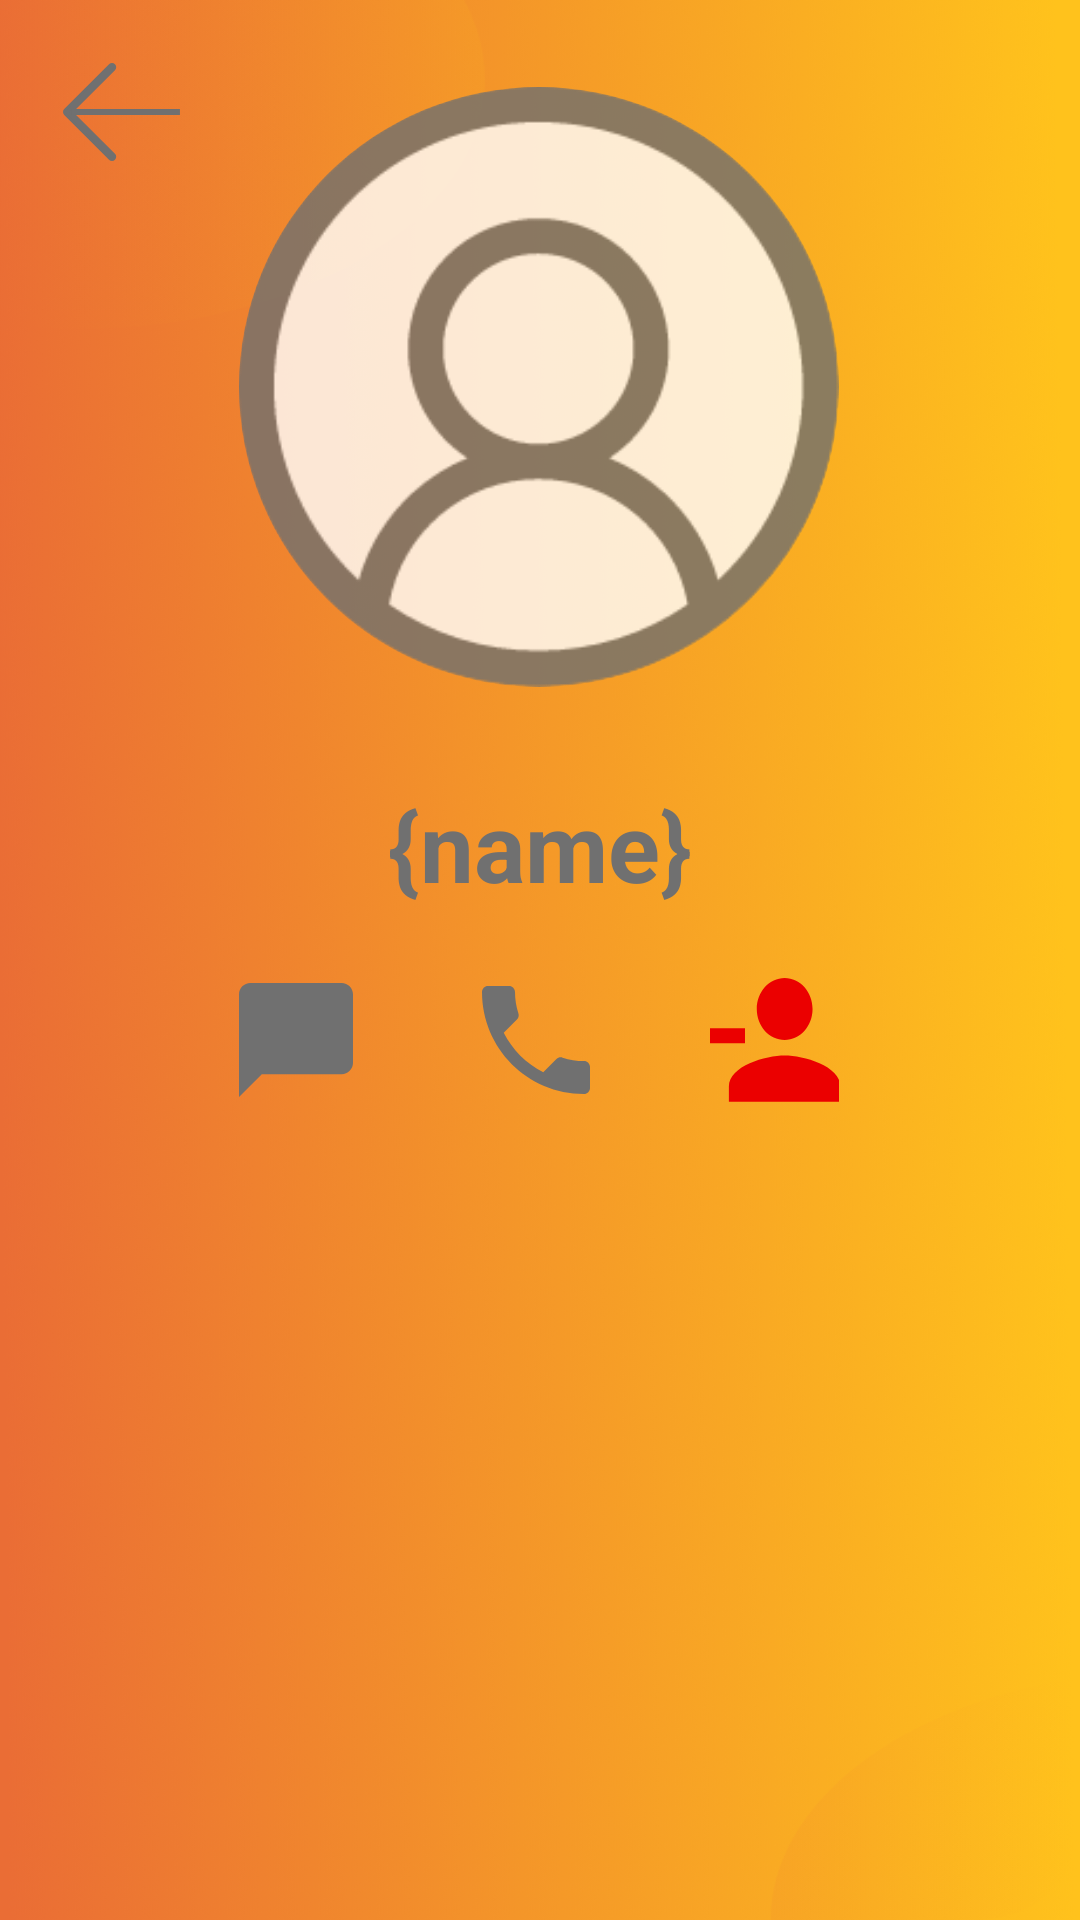

Icons on this 1080×1920 Android screen, each with its box as (x1, y1, x2, y2):
back arrow: (63, 63, 180, 161)
chat: (239, 983, 353, 1097)
phone: (482, 986, 590, 1094)
unfriend: (710, 978, 839, 1102)
